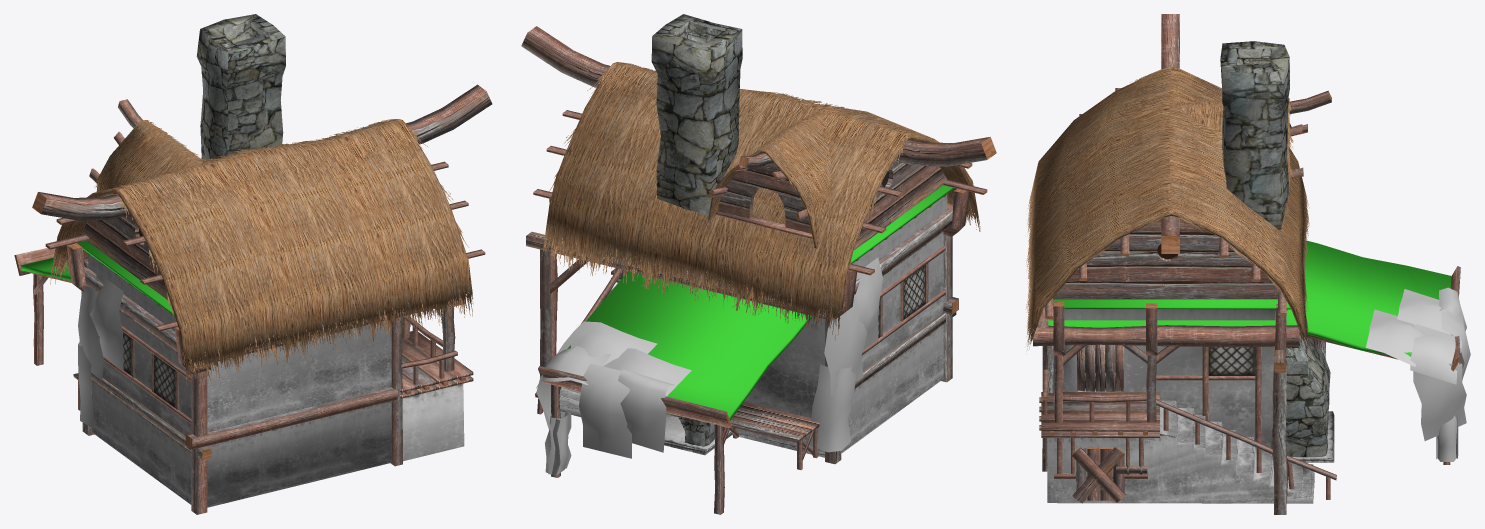
File: house_lod_0.fbx
3 views of the same model, side by side, from view 1: azimuth 30°, elevation 25°; view 2: azimuth 150°, elevation 25°; view 3: azimuth 270°, elevation 25° (orthographic). The views are drawn at different scales.
Parts seen in each view (by area): view 1: roof, walls, wood_planks, fireplace, roof_detail_inside, plants_outside, wood_planes, roof_detail_outside, windows, plants_inside; view 2: roof, wood_planks, walls, plants_outside, wood_planes, fireplace, roof_detail_inside, plants_inside, windows, roof_detail_outside; view 3: wood_planks, roof, walls, fireplace, wood_planes, roof_detail_inside, plants_outside, plants_inside, roof_detail_outside, windows.
Part boxes in pixels (x1,y1,x2,y2): roof: (50, 125, 473, 385); walls: (14, 192, 465, 507); wood_planks: (16, 84, 492, 514); fireplace: (196, 14, 285, 158); roof_detail_inside: (66, 119, 468, 319); plants_outside: (78, 271, 123, 428); wood_planes: (21, 240, 174, 316); roof_detail_outside: (128, 120, 398, 266); windows: (123, 332, 175, 407); plants_inside: (78, 288, 106, 426); roof: (542, 66, 980, 334); wood_planks: (521, 26, 989, 514); walls: (535, 137, 996, 457); plants_outside: (537, 257, 882, 476); wood_planes: (567, 185, 954, 420); fireplace: (651, 14, 742, 446); roof_detail_inside: (548, 62, 969, 220); plants_inside: (536, 294, 862, 474); windows: (878, 265, 925, 338); roof_detail_outside: (609, 65, 920, 159); wood_planks: (1033, 14, 1460, 514); roof: (1025, 73, 1309, 349); walls: (1042, 91, 1460, 503); fireplace: (1220, 41, 1330, 457); wood_planes: (1048, 240, 1451, 365); roof_detail_inside: (1042, 67, 1293, 314); plants_outside: (1368, 287, 1470, 461); plants_inside: (1366, 287, 1464, 461); roof_detail_outside: (1126, 71, 1290, 210); windows: (1208, 347, 1255, 375).
Size of the model in its own units: 14.22 by 11.35 by 11.76.
